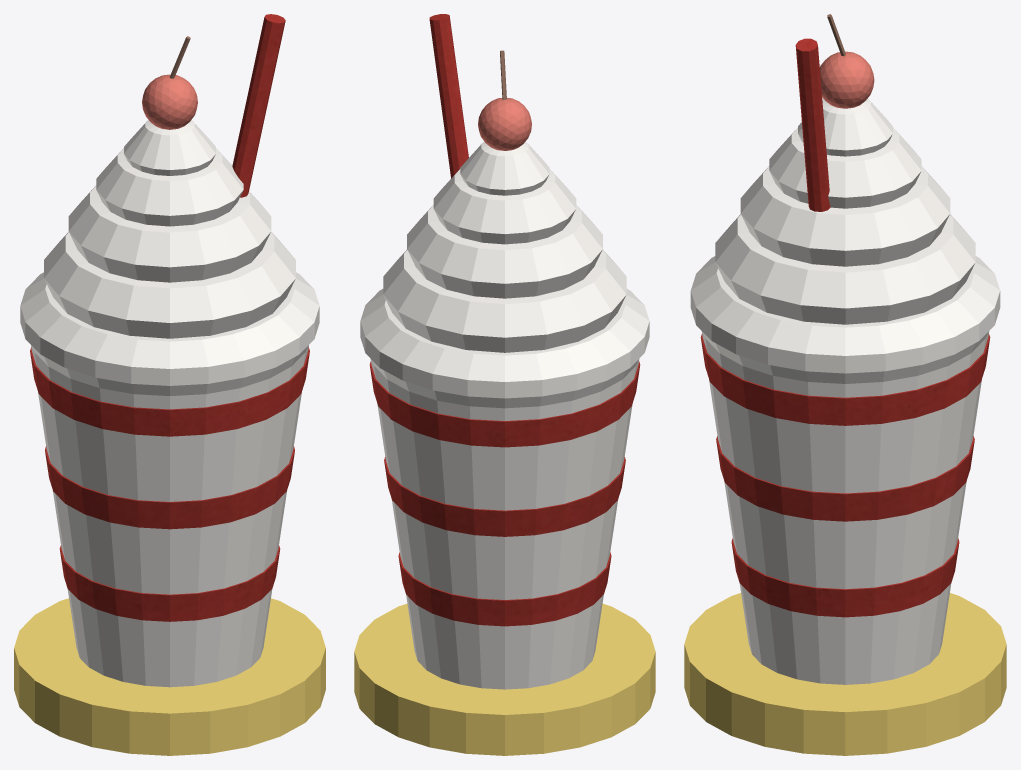
The model's file is milkshake.glb.
3 views of the same model, side by side, from view 1: azimuth 30°, elevation 25°; view 2: azimuth 150°, elevation 25°; view 3: azimuth 270°, elevation 25° (orthographic). The views are drawn at different scales.
Visible parts, largest first — view 1: milkshake_cup_w, milkshake_cream, milkshake_accent, milkshake_red, milkshake_tomato; view 2: milkshake_cup_w, milkshake_cream, milkshake_accent, milkshake_red, milkshake_tomato; view 3: milkshake_cup_w, milkshake_cream, milkshake_accent, milkshake_red, milkshake_tomato.
Part boxes in pixels (x1,y1,x2,y2): milkshake_cup_w: [20, 272, 319, 687]; milkshake_cream: [44, 120, 295, 338]; milkshake_accent: [14, 598, 325, 755]; milkshake_red: [30, 14, 309, 621]; milkshake_tomato: [142, 74, 197, 129]; milkshake_cup_w: [360, 289, 649, 689]; milkshake_cream: [383, 141, 626, 352]; milkshake_accent: [354, 603, 655, 755]; milkshake_red: [369, 14, 640, 626]; milkshake_tomato: [478, 98, 531, 150]; milkshake_cup_w: [690, 256, 1000, 684]; milkshake_cream: [715, 98, 975, 324]; milkshake_accent: [684, 593, 1006, 755]; milkshake_red: [700, 38, 990, 617]; milkshake_tomato: [819, 51, 874, 108].
Size of the model in its own units: 1 by 2.36 by 1.
6 materials, 1 textured.
